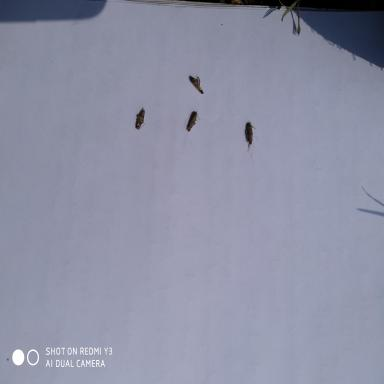pbw: (190, 75, 204, 94), (244, 121, 255, 145), (187, 110, 200, 130), (136, 107, 146, 130)
